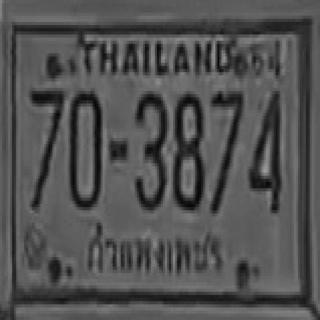N00: (68, 88, 101, 207)
N03: (133, 88, 165, 207)
N04: (248, 88, 280, 210)
N07: (28, 88, 62, 207), (209, 88, 242, 210)
N08: (171, 91, 203, 207)
P16: (82, 222, 226, 276)
